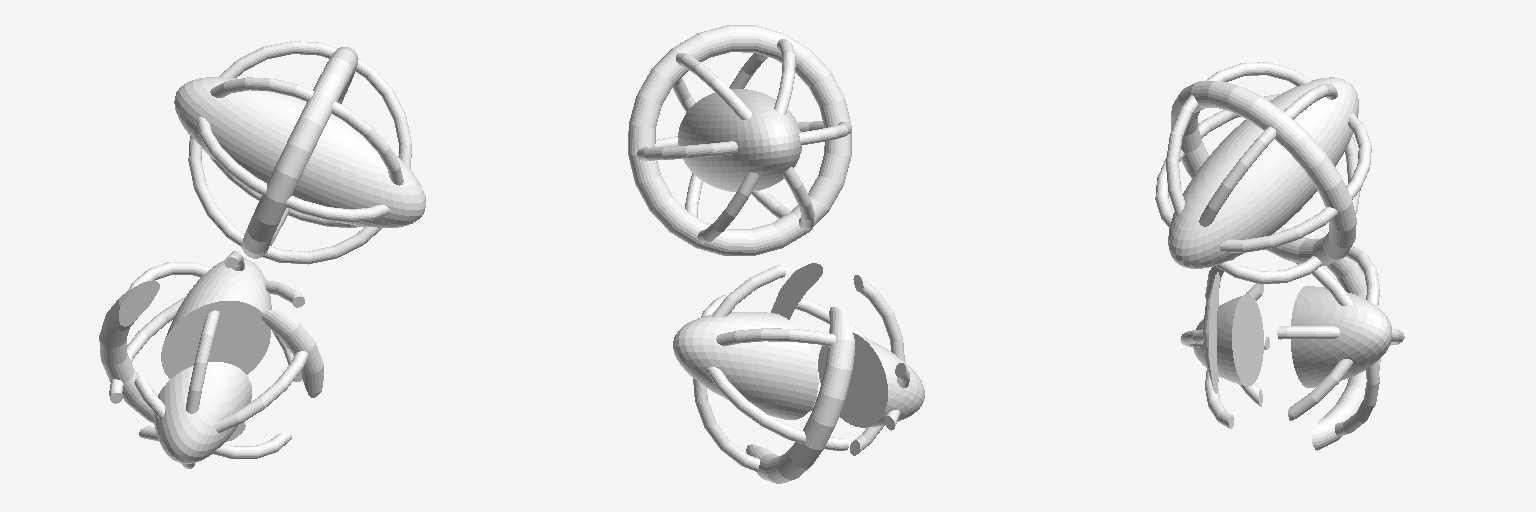
The model's file is tor_with_support_but_splited.obj.
3 renders of one model, left to right at view 1: azimuth 30°, elevation 25°; view 2: azimuth 150°, elevation 25°; view 3: azimuth 270°, elevation 25°, orthographic.
Visible parts, largest first — view 1: obj_0; view 2: obj_0; view 3: obj_0.
Boxes of the visible parts, <box> form: obj_0: <box>99,41,425,468</box>; obj_0: <box>628,25,924,483</box>; obj_0: <box>1155,62,1404,450</box>.
Size of the model in its own units: 93.44 by 137 by 77.79.